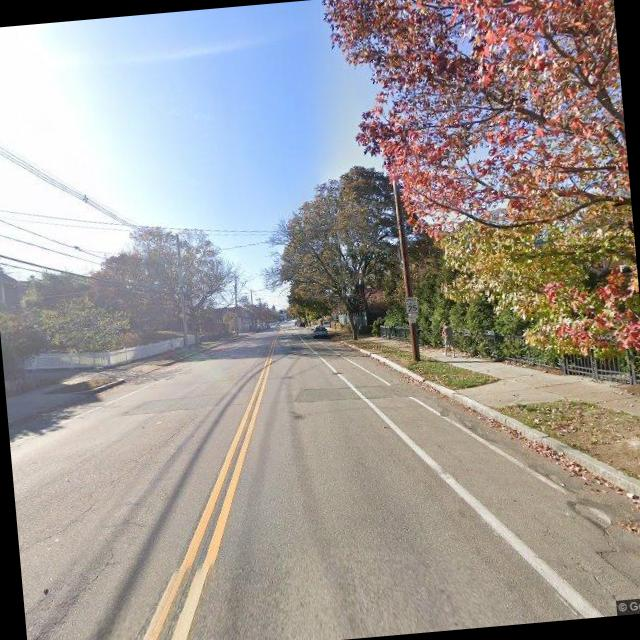crack: (21, 551, 124, 640)
